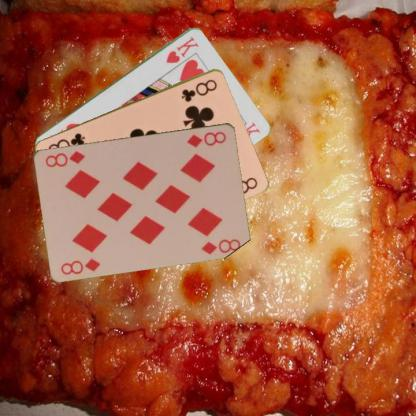8c: (178, 76, 219, 104)
8d: (184, 128, 228, 148), (58, 256, 102, 276)
Kh: (163, 34, 200, 66)
